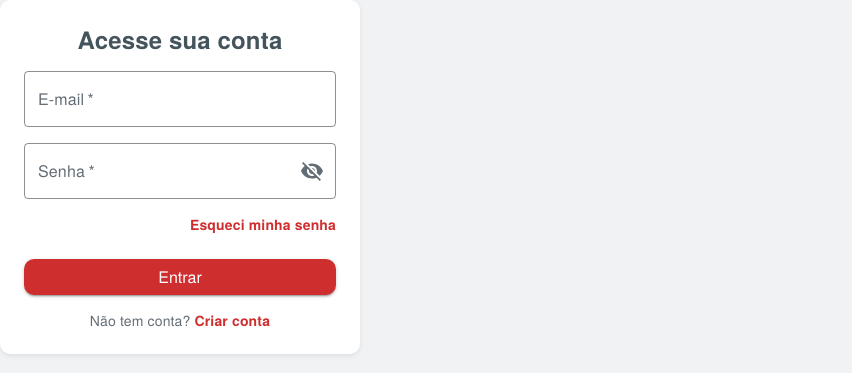
Test: LandingLoginCard › should report a generic failure for other api errors
In the field labelled "E-mail *": (180, 99) [24, 71, 336, 127], type "aluno.teste@aluno.cps.sp.gov.br"
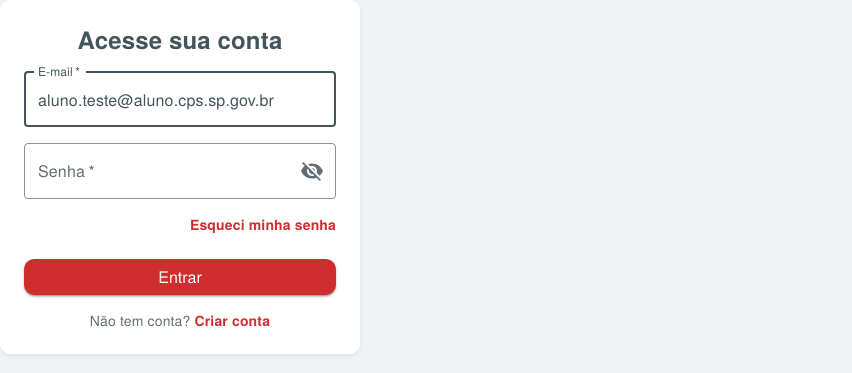
In the password field labelled "Senha *": (154, 171) [24, 143, 284, 199], type "segredo123"
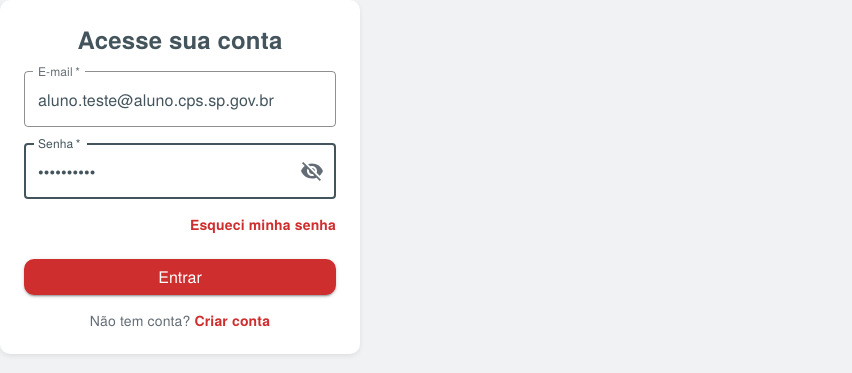
Click the button "Entrar": (180, 277) [24, 259, 336, 295]
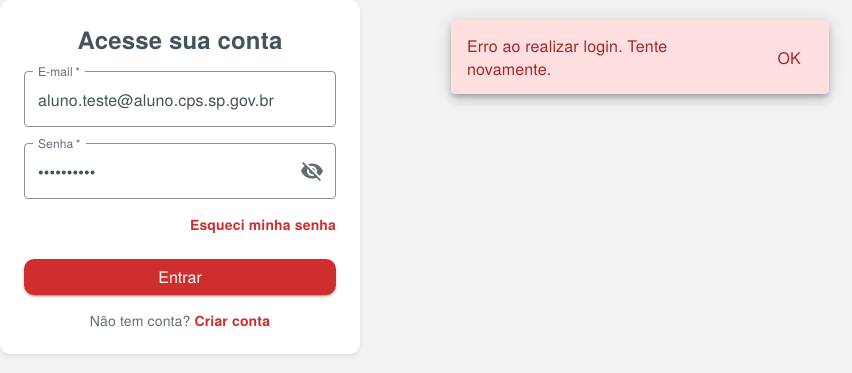
Check: the text "Erro ao realizar login. Tente novamente." is shown, box [467, 34, 667, 80]
